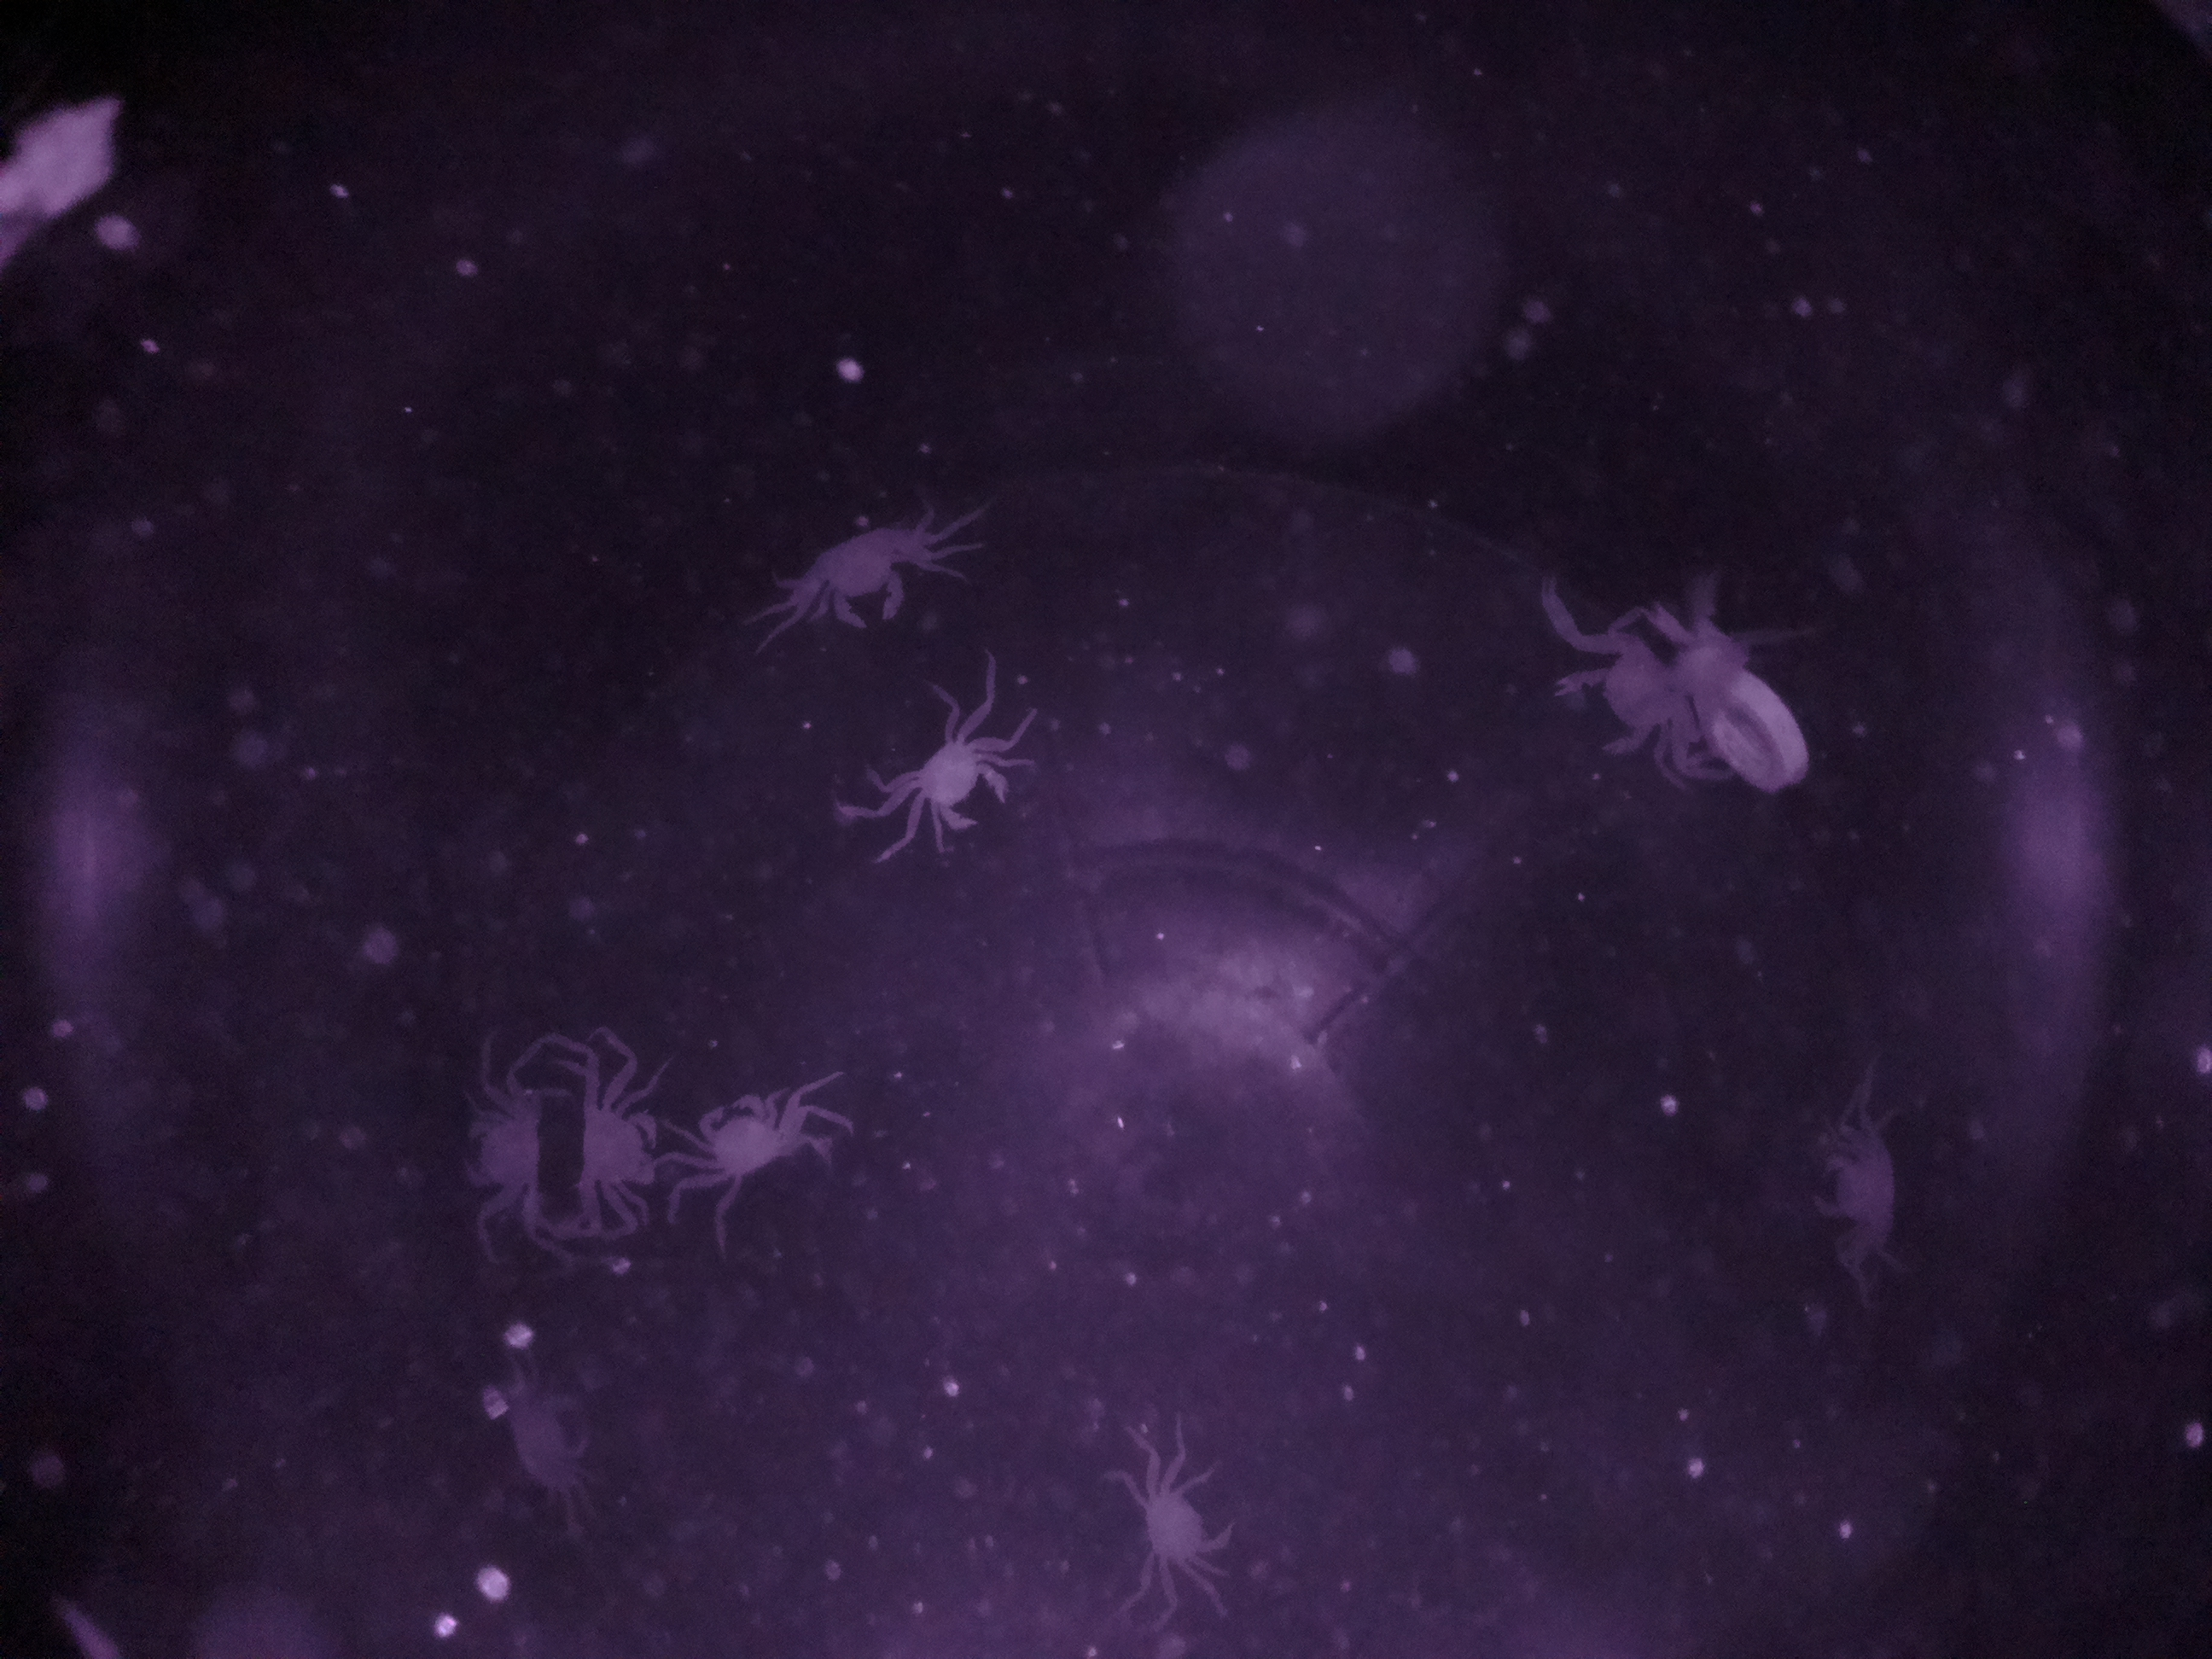Crab: (1097, 1452, 1256, 1595), (437, 1056, 556, 1237), (787, 504, 930, 641), (559, 1066, 672, 1223), (683, 1075, 820, 1202), (899, 716, 1019, 854)
